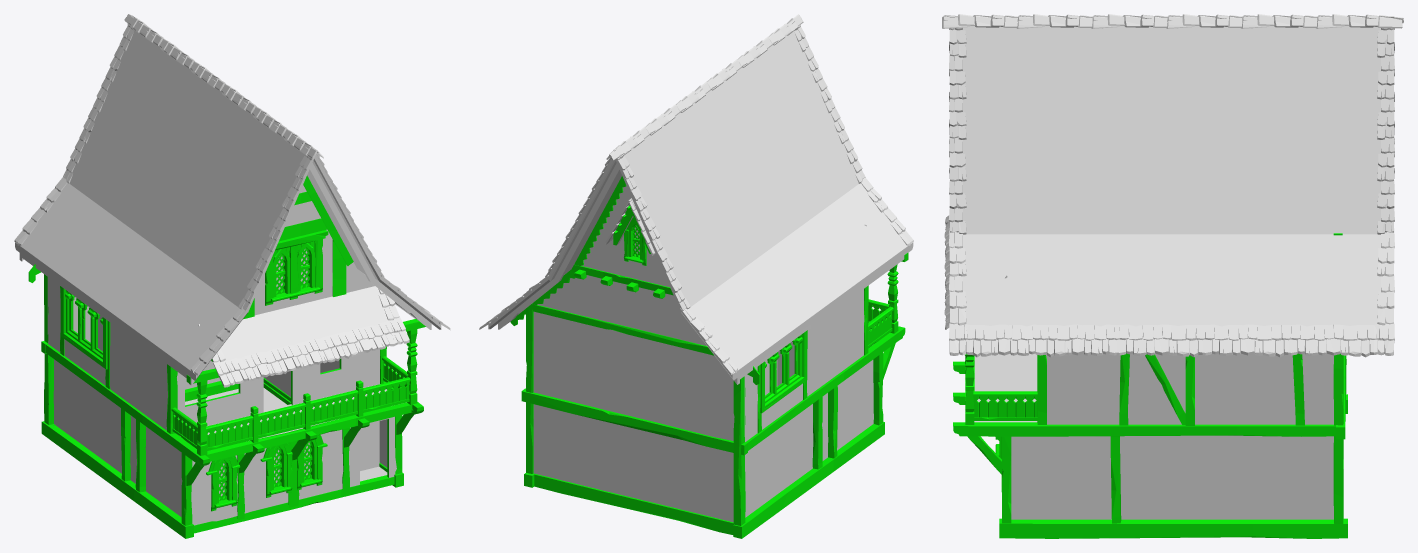
The model's file is SM_House_A_Fantasy_Base.fbx.
The picture shows the model from 3 angles, left to right: view 1: azimuth 30°, elevation 25°; view 2: azimuth 150°, elevation 25°; view 3: azimuth 270°, elevation 25°; orthographic projection. The views are drawn at different scales.
Visible parts, largest first — view 1: SM_House_A_Fantasy_Base; view 2: SM_House_A_Fantasy_Base; view 3: SM_House_A_Fantasy_Base.
Boxes of the visible parts, box(x1,y1,x2,y2) form: SM_House_A_Fantasy_Base: box(14, 14, 450, 538); SM_House_A_Fantasy_Base: box(479, 14, 913, 538); SM_House_A_Fantasy_Base: box(942, 14, 1403, 538).
Bounding box in the file's own units: 9.94 × 13.81 × 12.57.
